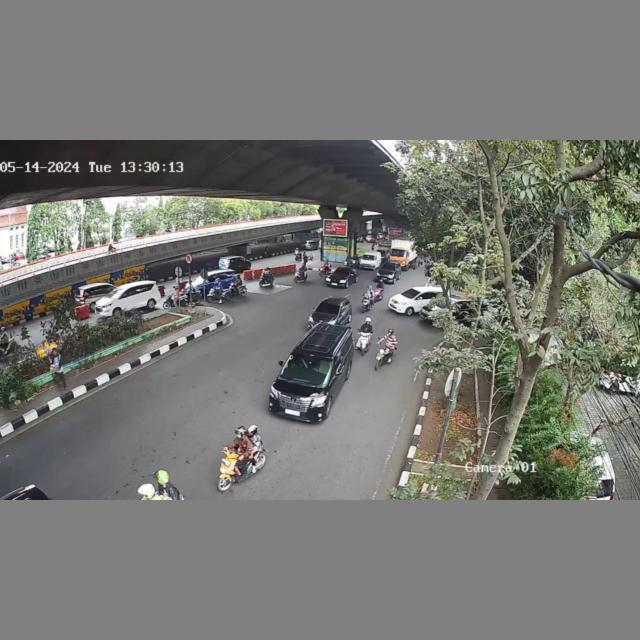windshield: (281, 351, 332, 385), (313, 298, 342, 316)
